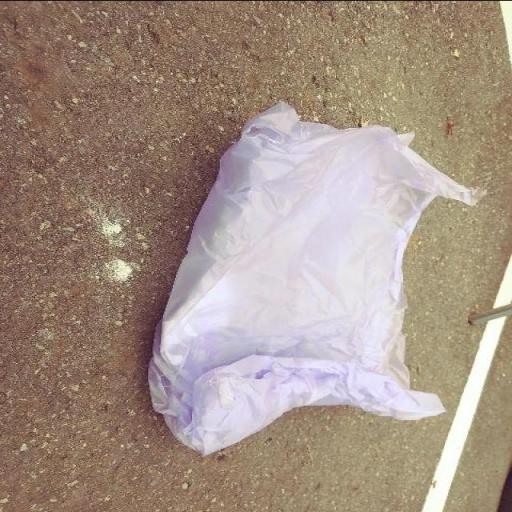plastic-bag: (143, 98, 487, 454)
